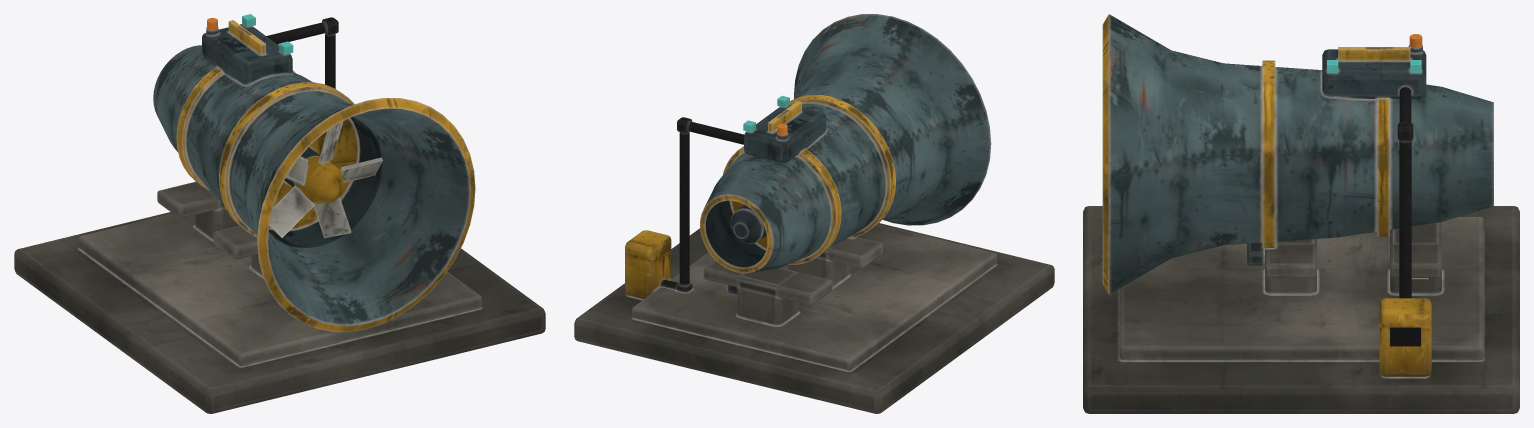
File: tidal_generator.glb
3 views of the same model, side by side, from view 1: azimuth 30°, elevation 25°; view 2: azimuth 150°, elevation 25°; view 3: azimuth 270°, elevation 25° (orthographic). The views are drawn at different scales.
Parts seen in each view (by area): view 1: te_tidal_generator, move_rotor; view 2: te_tidal_generator; view 3: te_tidal_generator.
Boxes of the visible parts, <box> form: te_tidal_generator: <box>14,14,545,413</box>; move_rotor: <box>269,121,382,238</box>; te_tidal_generator: <box>574,14,1054,413</box>; te_tidal_generator: <box>1083,14,1519,413</box>.
Bounding box in the file's own units: 0.84 × 0.63 × 0.84.
1 material, 1 textured.
